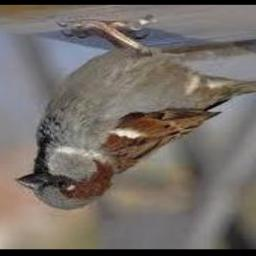Sparrow: (14, 21, 256, 211)
